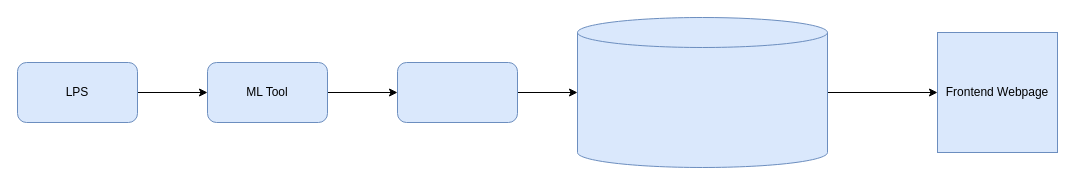
Some shapes in this 1075 by 185 pixel diagram are drawn without their labels. Here are the shapes that lost their labels. From the top down, the centre of each, then its label:
At point (457, 92): "NER Tool".
At point (702, 92): "The Article Pipeline Database".
